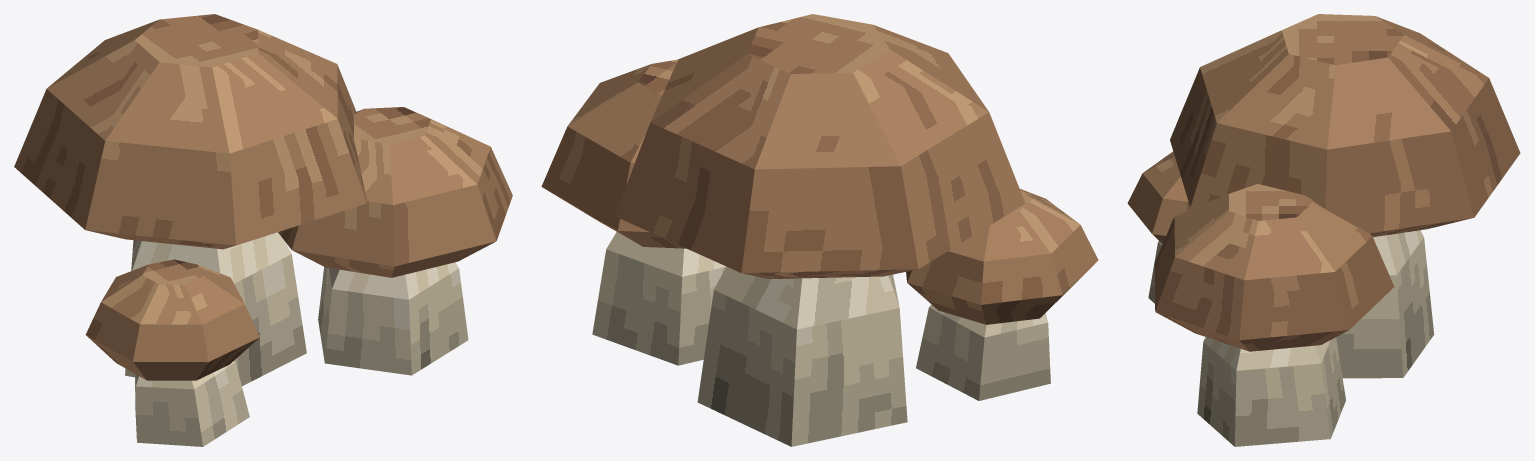
The model's file is boletes.glb.
3 renders of one model, left to right at view 1: azimuth 30°, elevation 25°; view 2: azimuth 150°, elevation 25°; view 3: azimuth 270°, elevation 25°, orthographic. The views are drawn at different scales.
Parts seen in each view (by area): view 1: capm_2, capm_4, capm_6, stem_3, stem_1, stem_5; view 2: capm_2, stem_1, capm_6, stem_3, capm_4, stem_5; view 3: capm_2, capm_4, stem_3, stem_1, capm_6.
Part boxes in pixels (x1,y1,x2,y2): capm_2: (14, 14, 366, 249); capm_4: (278, 107, 512, 277); capm_6: (85, 259, 259, 380); stem_3: (318, 262, 468, 375); stem_1: (125, 232, 306, 386); stem_5: (135, 361, 249, 446); capm_2: (615, 14, 1025, 278); stem_1: (697, 266, 907, 446); capm_6: (906, 189, 1098, 324); stem_3: (592, 232, 725, 365); capm_4: (541, 59, 685, 248); stem_5: (916, 304, 1050, 400); capm_2: (1170, 14, 1520, 237); capm_4: (1154, 184, 1394, 351); stem_3: (1197, 337, 1345, 446); stem_1: (1336, 230, 1434, 378); capm_6: (1127, 151, 1192, 243).
Size of the model in its own units: 14.57 by 10.37 by 11.88.
Materials: 1 (1 with a texture image).
